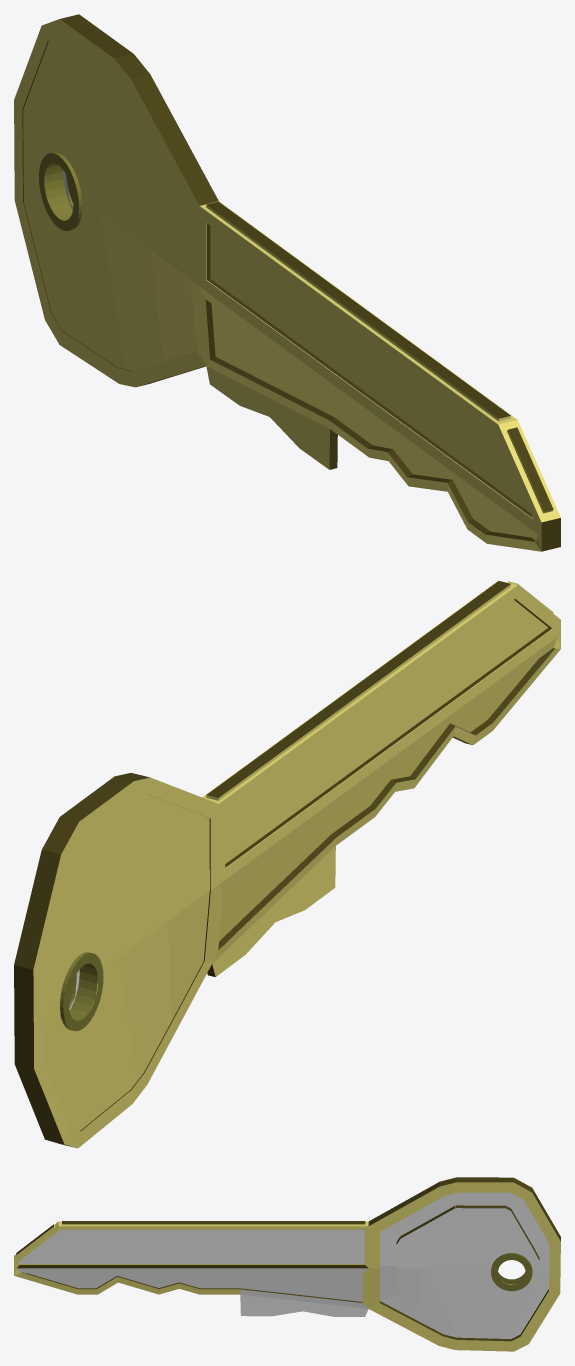
File: Key.fbx
The picture shows the model from 3 angles, top to bottom: view 1: azimuth 30°, elevation 25°; view 2: azimuth 150°, elevation 25°; view 3: azimuth 270°, elevation 25°; orthographic projection. The views are drawn at different scales.
Parts seen in each view (by area): view 1: Cube, Cylinder; view 2: Cube, Cylinder; view 3: Cube, Cylinder.
Part boxes in pixels (bbox=[...]): Cube: bbox=[14, 14, 560, 551]; Cylinder: bbox=[39, 152, 82, 231]; Cube: bbox=[14, 580, 560, 1148]; Cylinder: bbox=[60, 952, 103, 1031]; Cube: bbox=[14, 1177, 560, 1351]; Cylinder: bbox=[491, 1253, 532, 1291].
Size of the model in its own units: 1.74 by 19.85 by 58.06.
